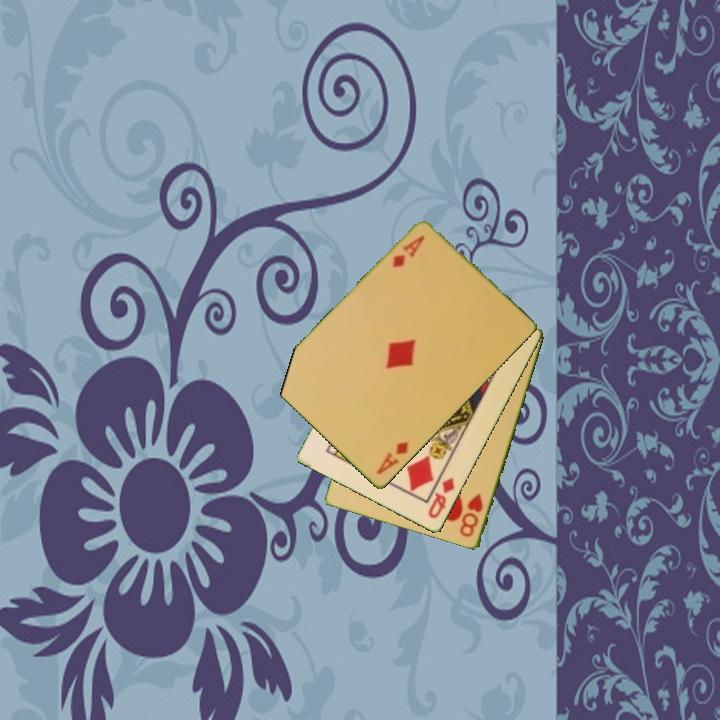8h: (456, 490, 486, 541)
Ad: (389, 232, 428, 271), (373, 438, 411, 478)
Qd: (425, 474, 458, 522)
